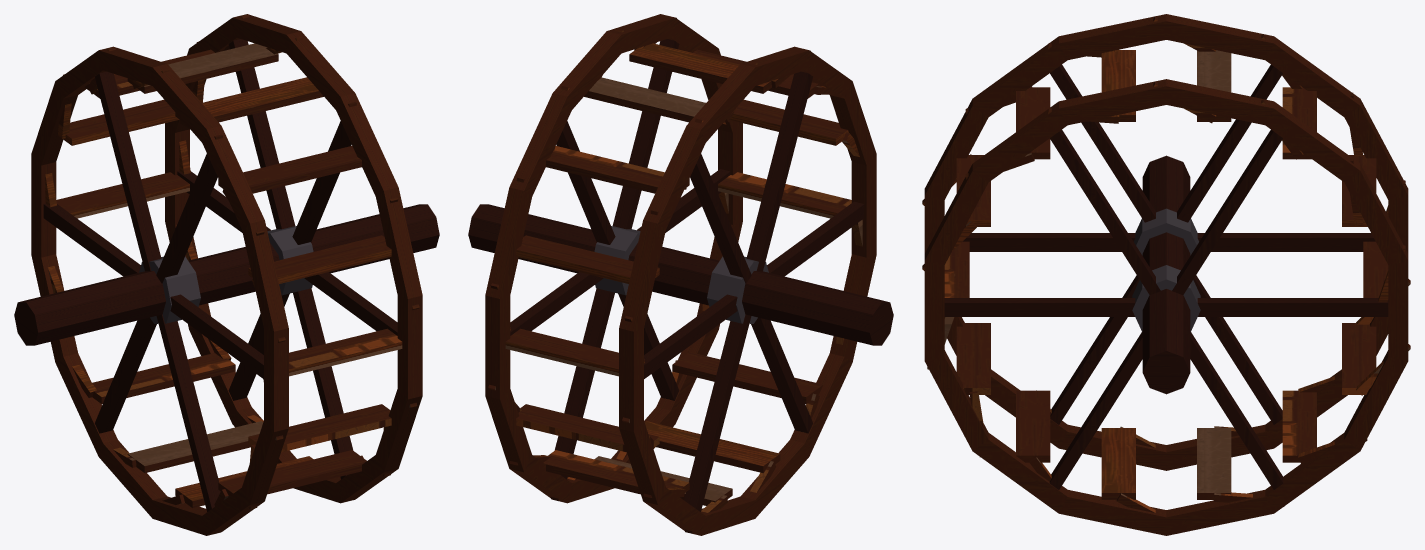
Rendered from water_wheel.gltf.
3 views of the same model, side by side, from view 1: azimuth 30°, elevation 25°; view 2: azimuth 150°, elevation 25°; view 3: azimuth 270°, elevation 25° (orthographic).
Parts seen in each view (by area): view 1: water_wheel; view 2: water_wheel; view 3: water_wheel.
Part boxes in pixels (x1,y1,x2,y2): water_wheel: [14, 14, 439, 535]; water_wheel: [468, 14, 893, 535]; water_wheel: [922, 14, 1410, 535].
Size of the model in its own units: 2.7 by 2.9 by 2.86.
2 materials, 1 textured.
